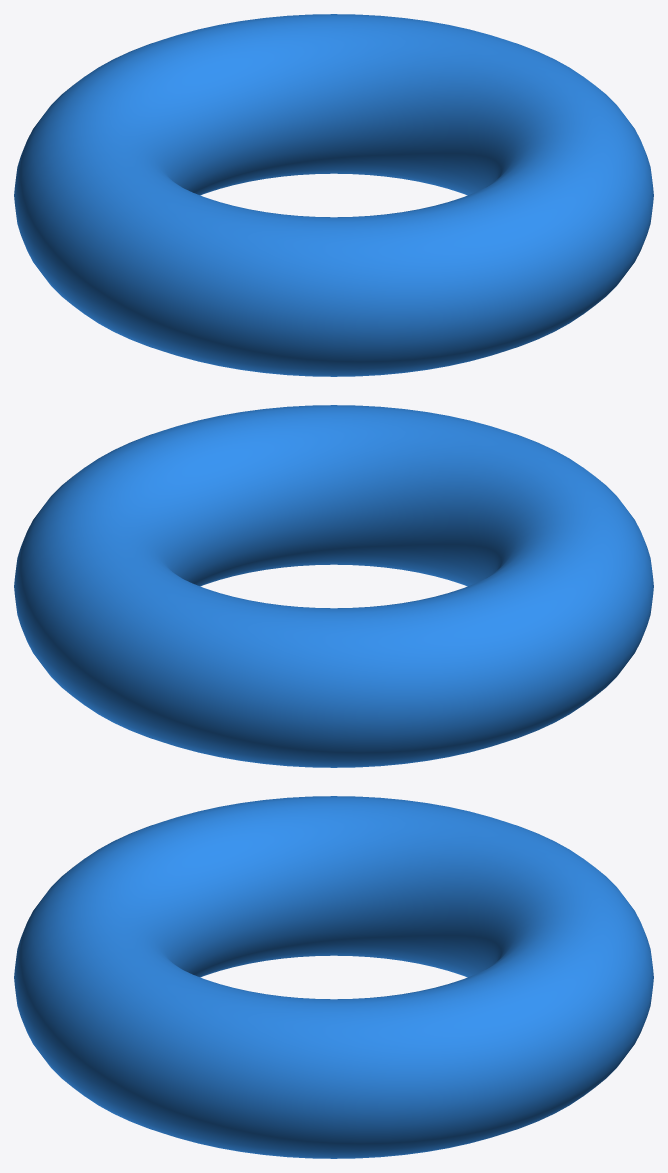
Rendered from Donut.dae.
3 views of the same model, one above another, from view 1: azimuth 30°, elevation 25°; view 2: azimuth 150°, elevation 25°; view 3: azimuth 270°, elevation 25° (orthographic).
Parts seen in each view (by area): view 1: Donut; view 2: Donut; view 3: Donut.
Boxes of the visible parts, left/top/right/bottom form: Donut: left=14, top=14, right=653, bottom=376; Donut: left=14, top=405, right=653, bottom=767; Donut: left=14, top=796, right=653, bottom=1158.
Size of the model in its own units: 100 by 24.96 by 100.
